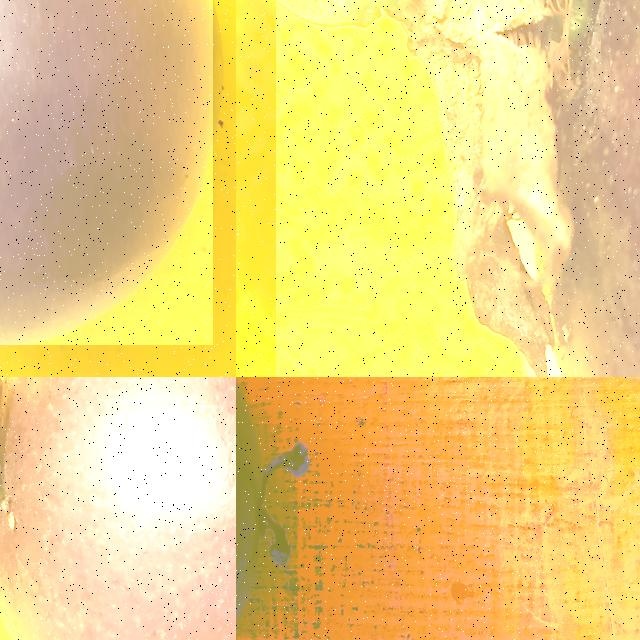Estado-5: (0, 377, 236, 640)
